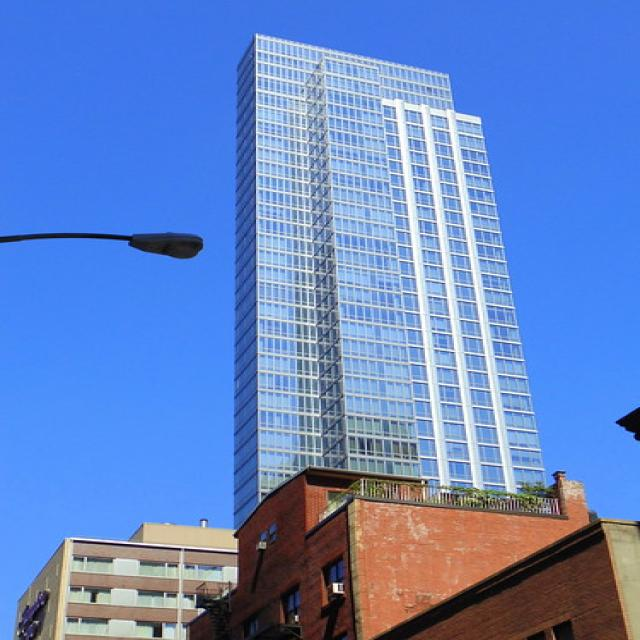building: (220, 33, 567, 636)
